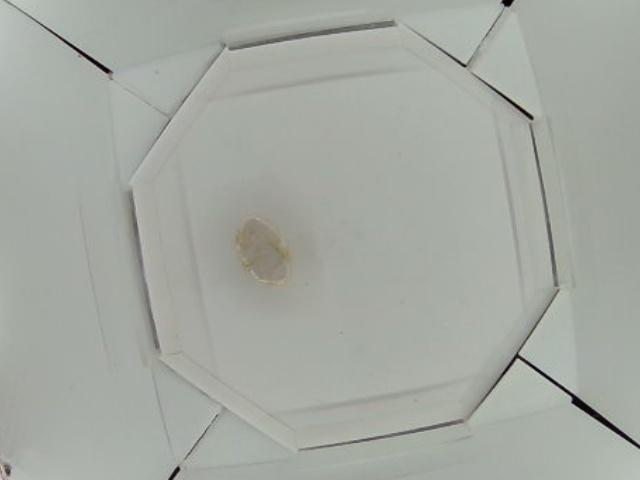Pebble: (236, 215, 285, 283)
